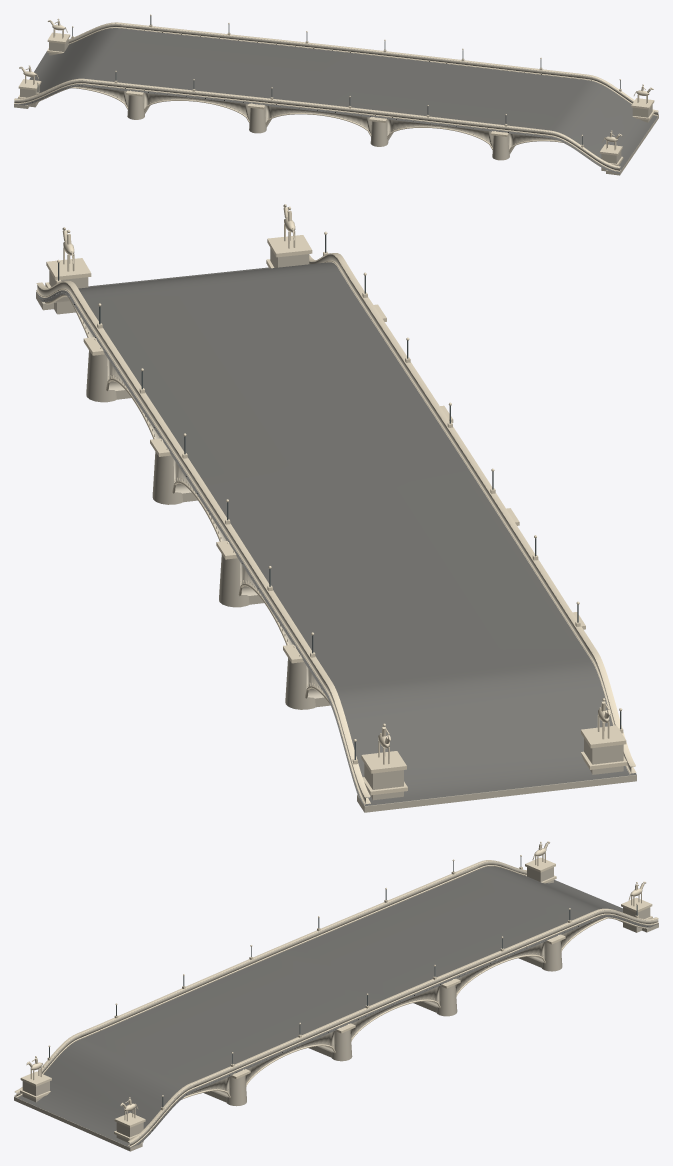
File: paris-pont-iena-near.glb
3 views of the same model, one above another, from view 1: azimuth 30°, elevation 25°; view 2: azimuth 150°, elevation 25°; view 3: azimuth 270°, elevation 25° (orthographic). The views are drawn at different scales.
Visible parts, largest first — view 1: paris-pont-iena-deck, paris-pont-iena-stone, paris-pont-iena-trim, paris-pont-iena-rail; view 2: paris-pont-iena-deck, paris-pont-iena-trim, paris-pont-iena-stone; view 3: paris-pont-iena-deck, paris-pont-iena-stone, paris-pont-iena-trim.
Part boxes in pixels (bbox=[...]): paris-pont-iena-deck: bbox=[14, 28, 658, 174]; paris-pont-iena-stone: bbox=[14, 24, 658, 175]; paris-pont-iena-trim: bbox=[14, 14, 658, 171]; paris-pont-iena-rail: bbox=[37, 16, 620, 145]; paris-pont-iena-deck: bbox=[36, 262, 636, 806]; paris-pont-iena-trim: bbox=[36, 204, 636, 805]; paris-pont-iena-stone: bbox=[36, 248, 636, 812]; paris-pont-iena-deck: bbox=[14, 866, 658, 1147]; paris-pont-iena-stone: bbox=[14, 861, 658, 1151]; paris-pont-iena-trim: bbox=[14, 841, 658, 1147].
Bounding box in the file's own units: 135 × 13.14 × 135.
